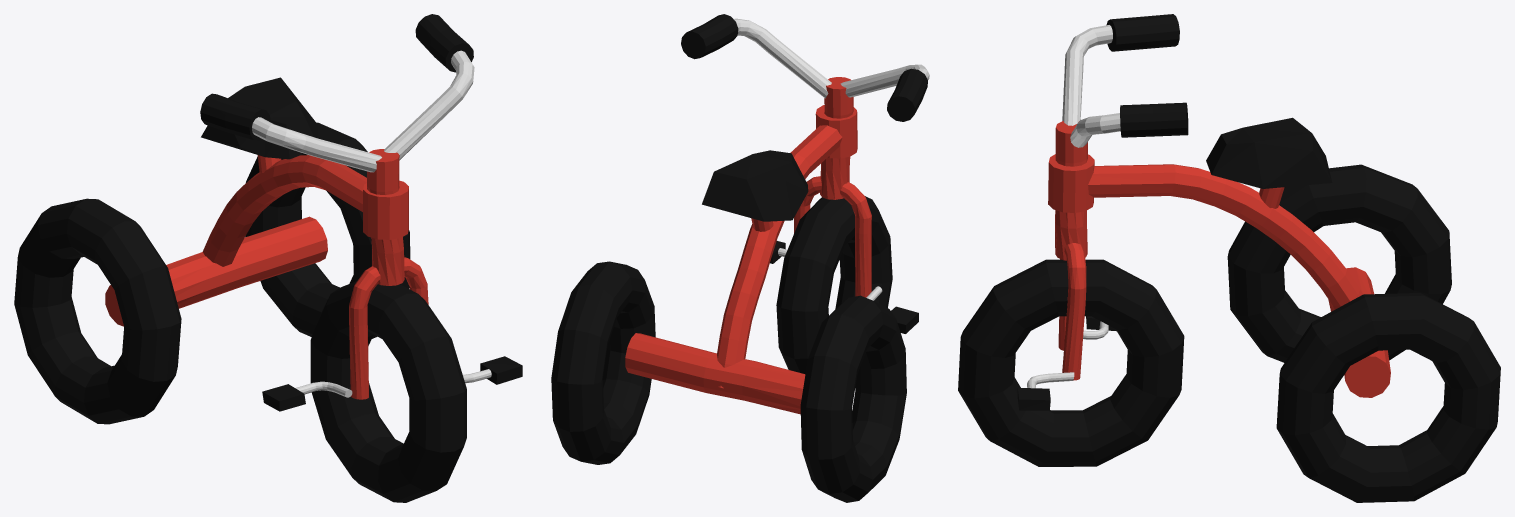
3 views of the same model, side by side, from view 1: azimuth 30°, elevation 25°; view 2: azimuth 150°, elevation 25°; view 3: azimuth 270°, elevation 25° (orthographic). The views are drawn at different scales.
Parts seen in each view (by area): view 1: node_MeshObject-1416741632-PolyPaper8; view 2: node_MeshObject-1416741632-PolyPaper8; view 3: node_MeshObject-1416741632-PolyPaper8.
Part boxes in pixels (bbox=[...]): node_MeshObject-1416741632-PolyPaper8: bbox=[14, 14, 522, 502]; node_MeshObject-1416741632-PolyPaper8: bbox=[551, 14, 929, 502]; node_MeshObject-1416741632-PolyPaper8: bbox=[958, 14, 1500, 502].
Bounding box in the file's own units: 0.8149 × 0.9715 × 1.17.
